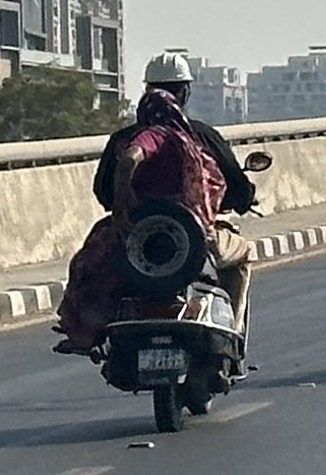BikeWithRider: (44, 44, 275, 436)
Helmet: (137, 47, 198, 110)
NoHelmet: (130, 86, 187, 137)
